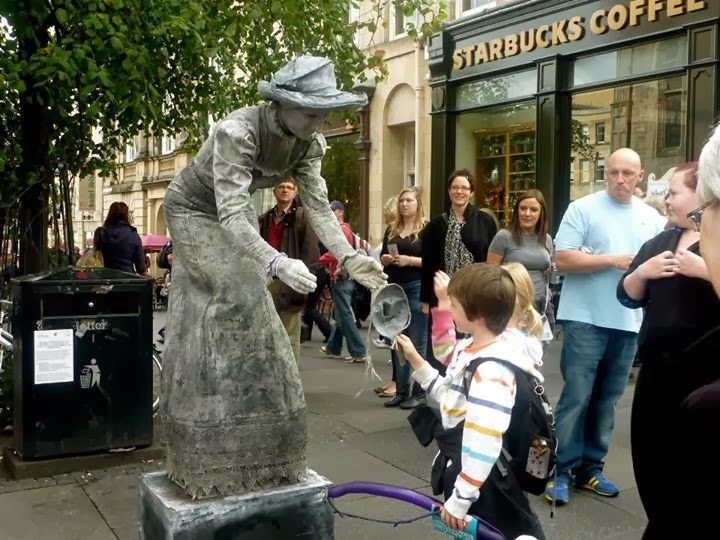person: (390, 259, 564, 540), (546, 144, 664, 508), (616, 163, 720, 534), (253, 179, 324, 368), (379, 186, 436, 412), (416, 167, 497, 317), (483, 186, 558, 314), (317, 198, 371, 367)
person-like: (151, 52, 390, 499)
